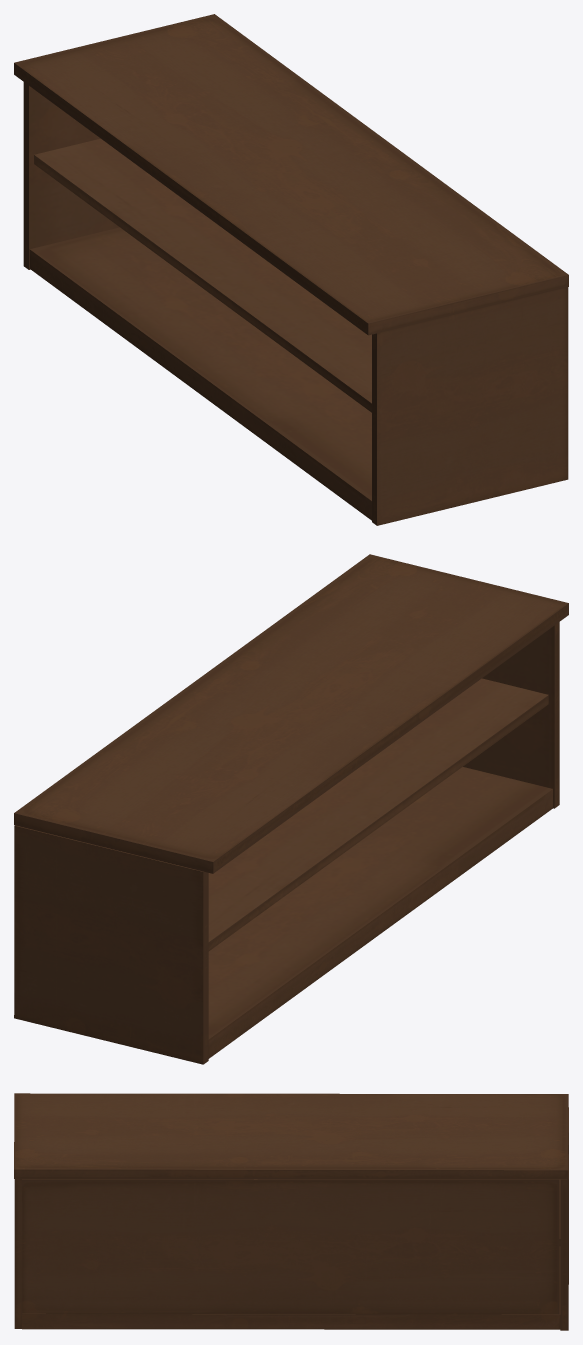
The model's file is SM_Cabinets_A1.fbx.
3 views of the same model, one above another, from view 1: azimuth 30°, elevation 25°; view 2: azimuth 150°, elevation 25°; view 3: azimuth 270°, elevation 25° (orthographic). The views are drawn at different scales.
Parts seen in each view (by area): view 1: SM_Cabinets_A1; view 2: SM_Cabinets_A1; view 3: SM_Cabinets_A1.
Boxes of the visible parts, box(x1,y1,x2,y2) form: SM_Cabinets_A1: box(14, 14, 568, 525); SM_Cabinets_A1: box(14, 554, 568, 1064); SM_Cabinets_A1: box(14, 1093, 568, 1330).
Bounding box in the file's own units: 48.38 × 148 × 47.13.
1 material, 1 textured.
